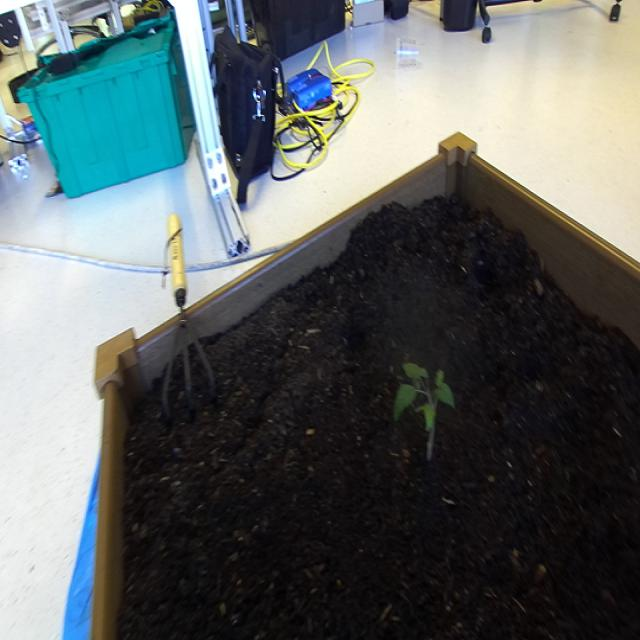Healthy: (388, 344, 463, 485)
